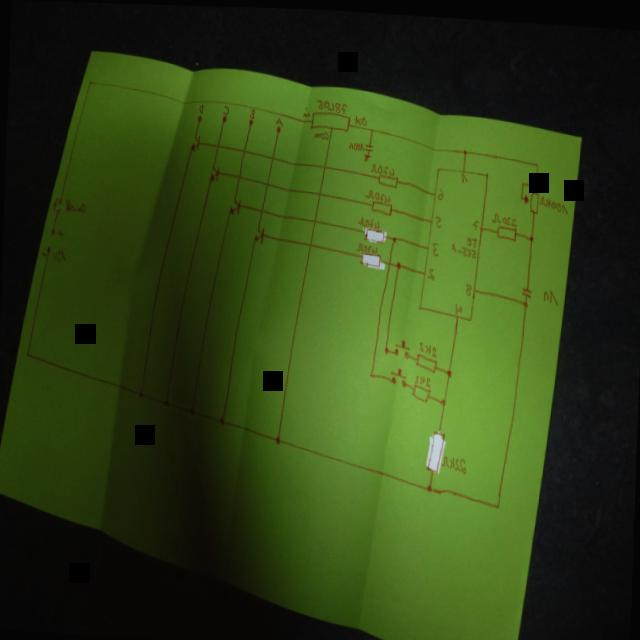capacitor: (522, 282, 532, 294), (364, 140, 374, 148)
crossover: (214, 138, 224, 149), (316, 186, 324, 196), (321, 159, 329, 168), (235, 170, 243, 179), (312, 215, 320, 223), (240, 145, 248, 153), (270, 151, 277, 159), (259, 204, 266, 212), (308, 238, 314, 246), (265, 177, 271, 185), (387, 257, 393, 264)
ground: (362, 149, 371, 160)
junction: (274, 432, 282, 443), (426, 480, 434, 491), (137, 388, 145, 398), (219, 413, 226, 424), (439, 394, 446, 404), (391, 232, 398, 242), (528, 230, 535, 240), (384, 342, 390, 353), (534, 156, 541, 165), (396, 257, 402, 267), (190, 405, 197, 413), (520, 176, 527, 184), (446, 365, 452, 374), (164, 397, 170, 405), (495, 499, 501, 507), (522, 296, 528, 304), (368, 368, 374, 376), (534, 177, 540, 185), (462, 144, 468, 152), (368, 123, 374, 130), (26, 351, 30, 357), (89, 78, 92, 84)
resistor: (426, 424, 446, 471), (520, 185, 540, 210), (414, 349, 438, 369), (411, 379, 431, 400), (495, 222, 519, 238), (359, 248, 382, 264), (371, 197, 393, 212), (364, 225, 386, 240), (377, 171, 401, 184)
switch: (394, 334, 411, 357), (390, 364, 408, 385), (51, 195, 64, 215)
terminal: (221, 112, 228, 122), (276, 122, 282, 132), (247, 117, 254, 125), (196, 112, 203, 120), (50, 226, 56, 234), (46, 244, 51, 252)
text: (451, 230, 478, 256), (539, 191, 570, 209), (440, 452, 468, 471), (316, 96, 348, 112), (366, 185, 392, 201), (492, 208, 518, 224), (418, 337, 438, 354), (370, 160, 396, 173), (66, 198, 86, 213), (358, 213, 381, 226), (356, 239, 378, 251), (543, 285, 559, 301), (415, 371, 431, 384), (348, 137, 364, 148), (52, 249, 66, 261), (314, 127, 329, 138), (431, 238, 441, 253), (427, 263, 436, 278), (355, 112, 367, 122), (434, 211, 442, 225), (437, 183, 445, 197), (455, 300, 463, 312), (303, 104, 311, 115), (466, 278, 472, 292), (472, 215, 479, 227), (222, 102, 230, 112), (461, 168, 468, 179), (275, 115, 283, 123), (249, 106, 255, 116), (198, 101, 204, 111)
transistor: (252, 223, 266, 242), (208, 162, 221, 181), (228, 196, 242, 213), (190, 131, 202, 150)
